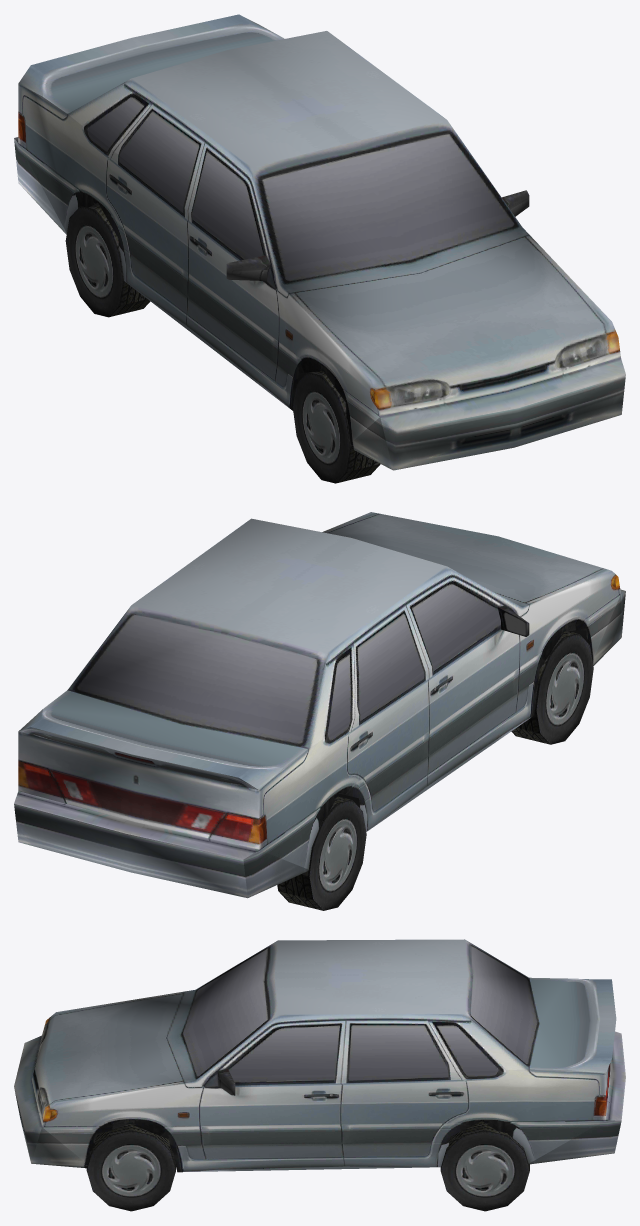
The model's file is 17_lada_2115_samara.glb.
3 renders of one model, top to bottom at view 1: azimuth 30°, elevation 25°; view 2: azimuth 150°, elevation 25°; view 3: azimuth 270°, elevation 25°, orthographic. The views are drawn at different scales.
Parts seen in each view (by area): view 1: SamaraLP_115, WheelMesh.025_112, WheelMesh.026_113; view 2: SamaraLP_115, WheelMesh.026_113, WheelMesh.025_112; view 3: SamaraLP_115, WheelMesh.024_111, WheelMesh.027_114.
Boxes of the visible parts, x1=… form: SamaraLP_115: x1=14, y1=14, x2=625, y2=470; WheelMesh.025_112: x1=292, y1=371, x2=380, y2=483; WheelMesh.026_113: x1=65, y1=205, x2=150, y2=317; SamaraLP_115: x1=14, y1=512, x2=625, y2=898; WheelMesh.026_113: x1=277, y1=796, x2=366, y2=910; WheelMesh.025_112: x1=511, y1=631, x2=593, y2=744; SamaraLP_115: x1=14, y1=939, x2=625, y2=1172; WheelMesh.024_111: x1=86, y1=1124, x2=175, y2=1211; WheelMesh.027_114: x1=440, y1=1121, x2=529, y2=1211.
Bounding box in the file's own units: 1.85 × 1.43 × 4.2.
2 materials, 1 textured.
